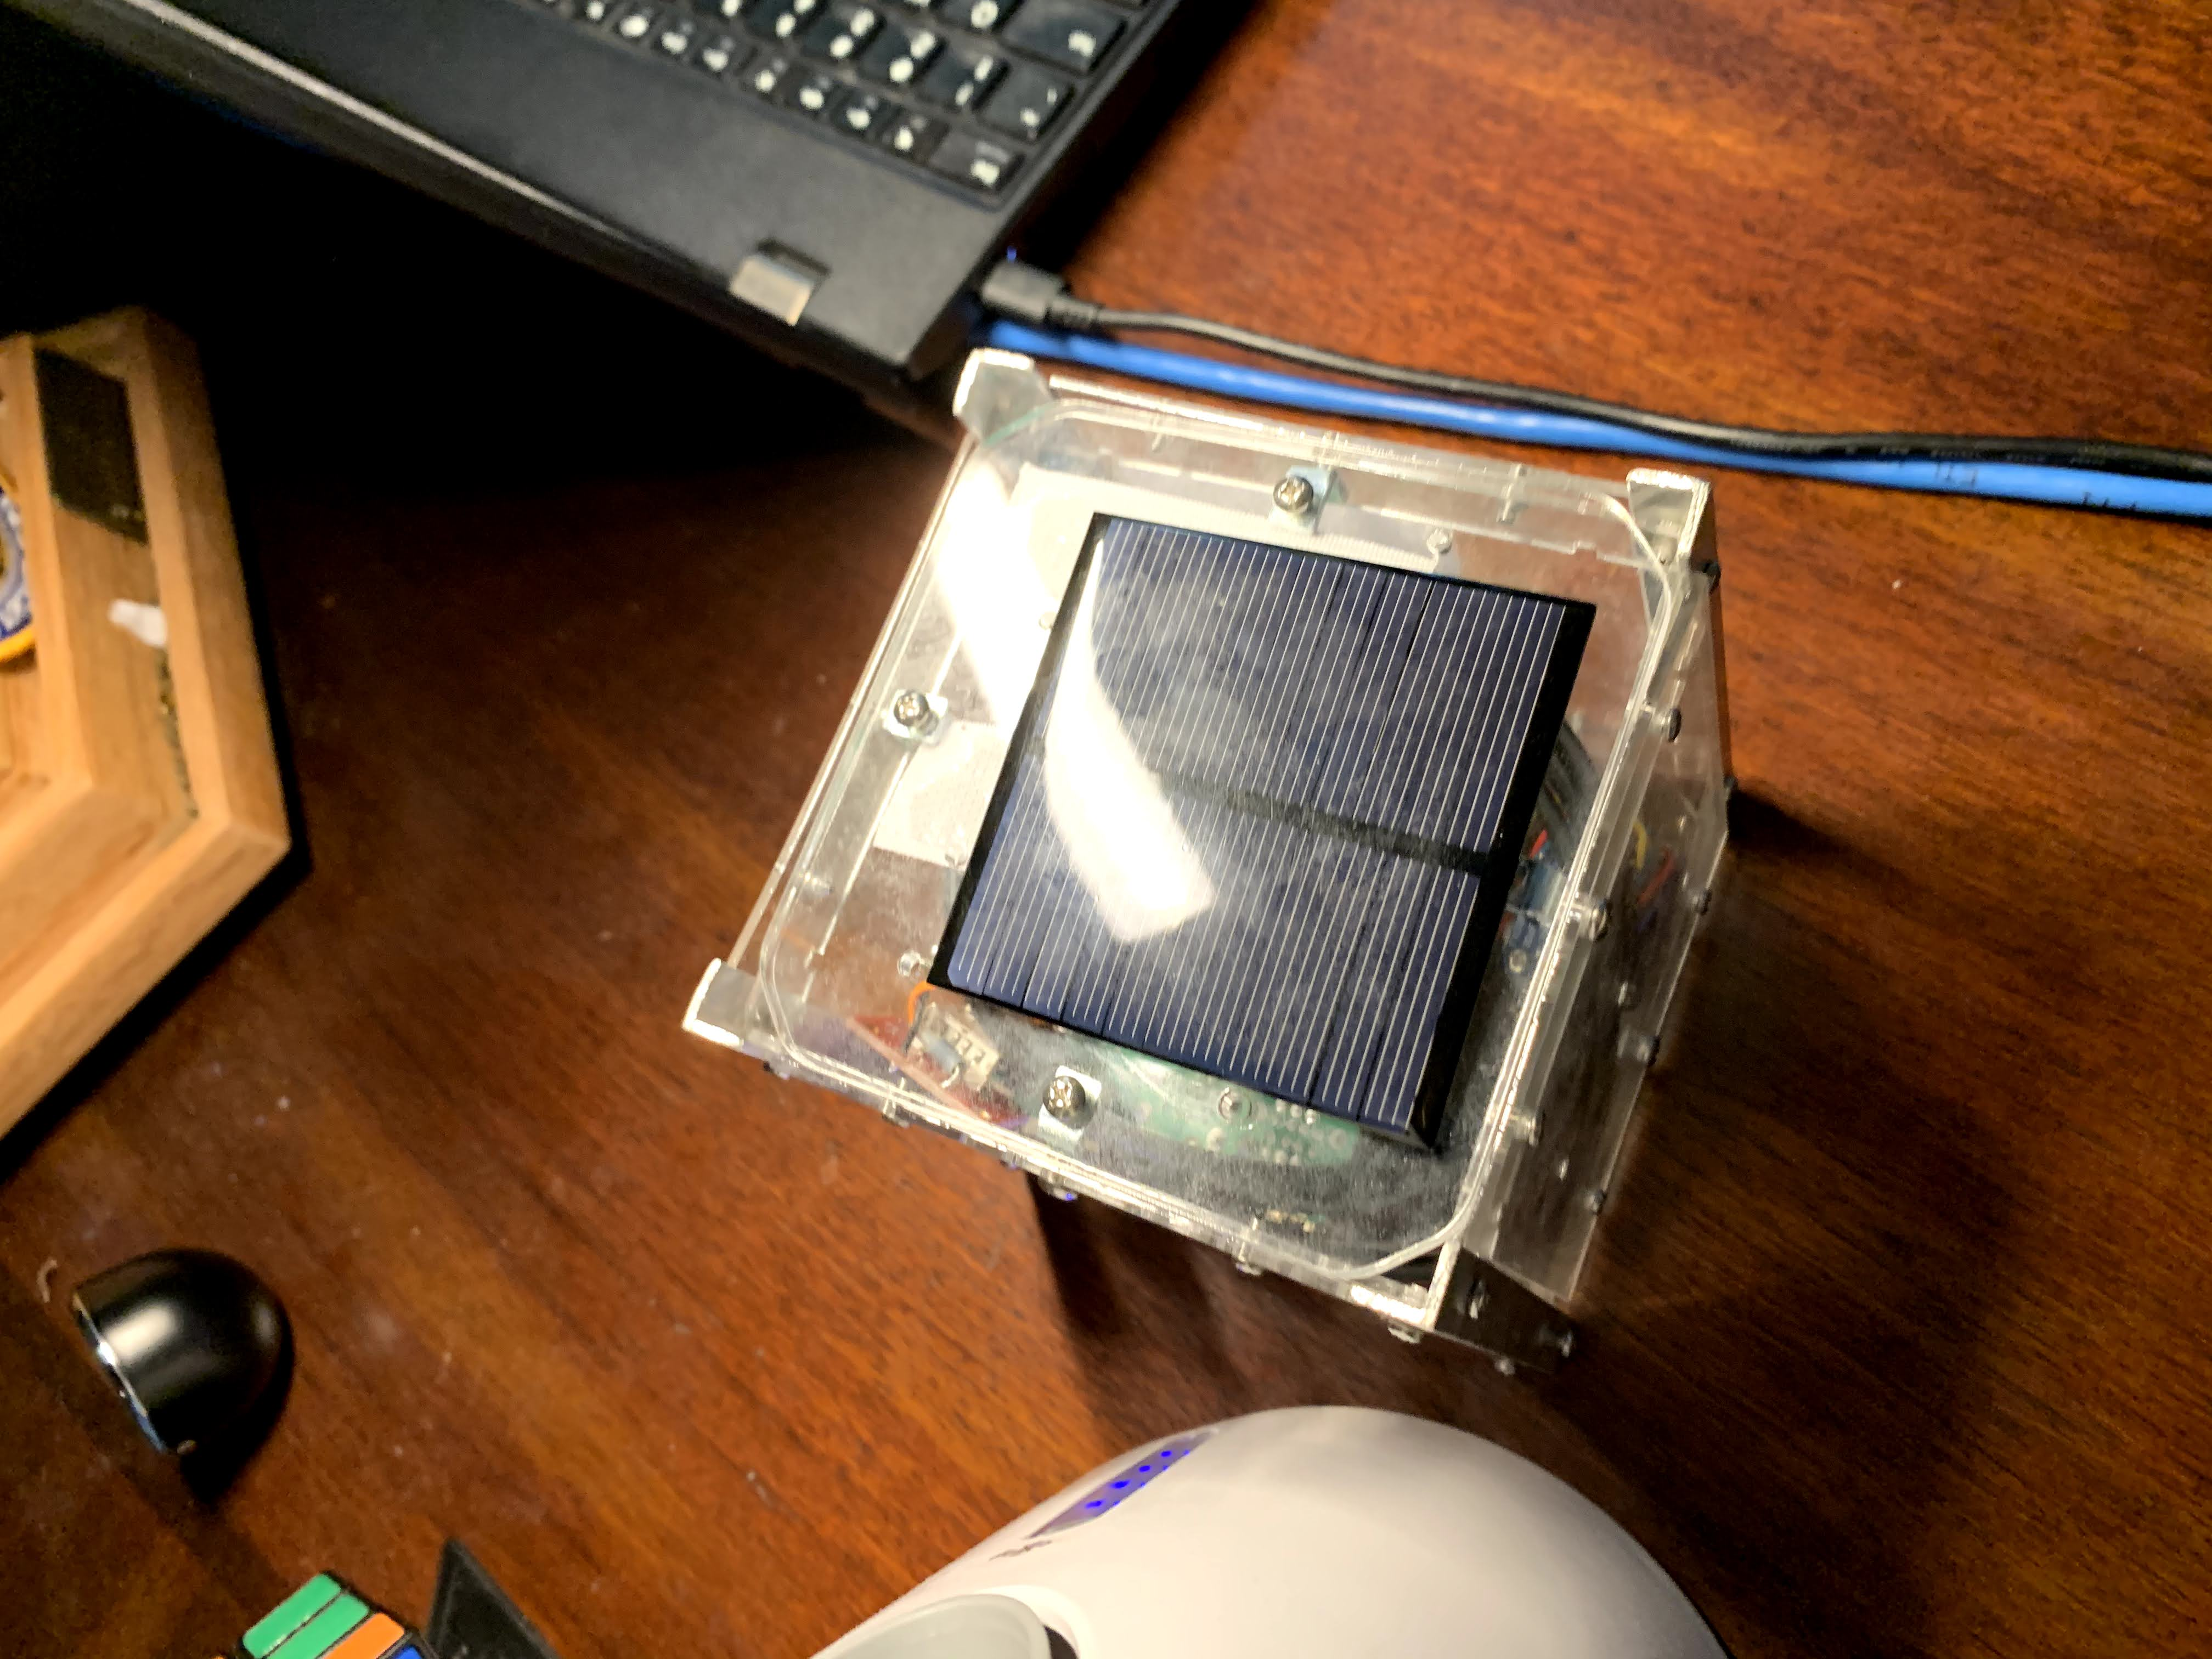Space-debris-cubesat: (678, 270, 1831, 1413)
